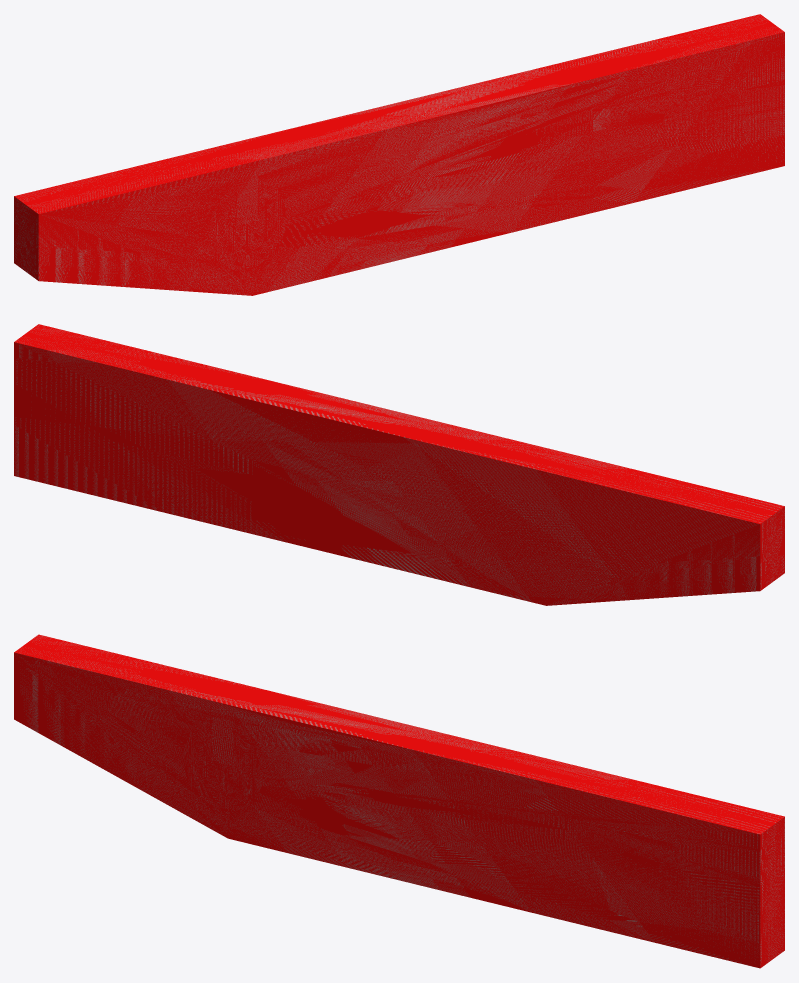
The model's file is original-40.obj.
3 views of the same model, one above another, from view 1: azimuth 30°, elevation 25°; view 2: azimuth 150°, elevation 25°; view 3: azimuth 330°, elevation 25° (orthographic).
Visible parts, largest first — view 1: mesh47/mesh47-geometry#mesh47-geometry; view 2: mesh47/mesh47-geometry#mesh47-geometry; view 3: mesh47/mesh47-geometry#mesh47-geometry.
Boxes of the visible parts, x1,y1,x2,y2 form: mesh47/mesh47-geometry#mesh47-geometry: (14, 14, 784, 295); mesh47/mesh47-geometry#mesh47-geometry: (14, 324, 784, 605); mesh47/mesh47-geometry#mesh47-geometry: (14, 634, 784, 968).
Bounding box in the file's own units: 0.143 × 0.0245 × 0.00817.
